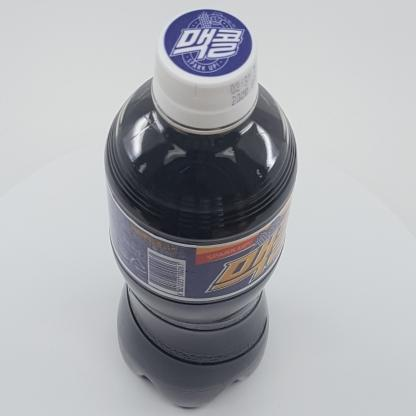-----500ML: (104, 8, 298, 408)
